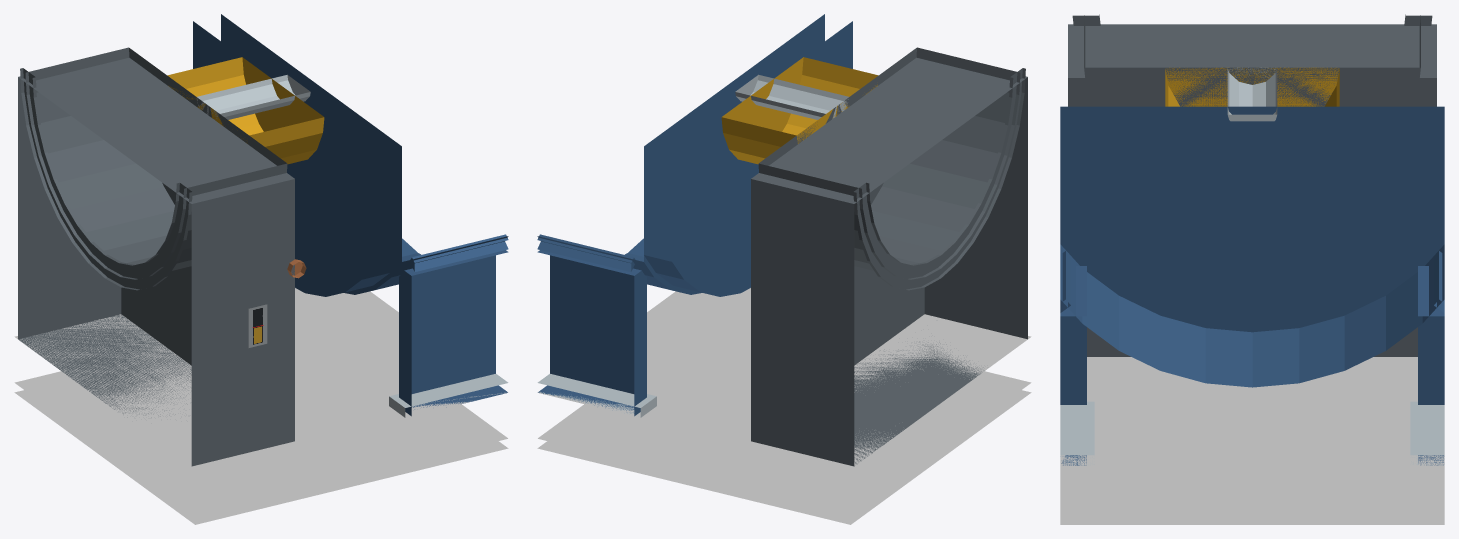
The model's file is cell_12.obj.
3 views of the same model, side by side, from view 1: azimuth 30°, elevation 25°; view 2: azimuth 150°, elevation 25°; view 3: azimuth 270°, elevation 25° (orthographic). The views are drawn at different scales.
Bounding box in the file's own units: 1 × 1 × 1.
